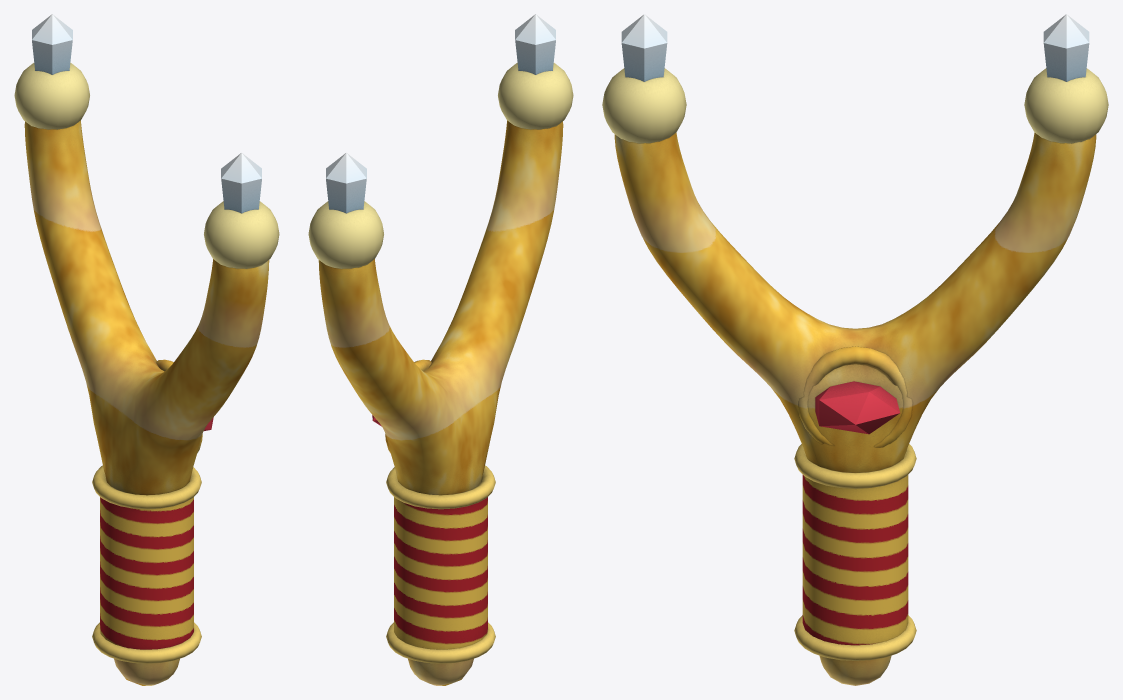
File: Golden Slingshot.fbx
3 views of the same model, side by side, from view 1: azimuth 30°, elevation 25°; view 2: azimuth 150°, elevation 25°; view 3: azimuth 270°, elevation 25° (orthographic). The views are drawn at different scales.
Visible parts, largest first — view 1: Golden Slingshot; view 2: Golden Slingshot; view 3: Golden Slingshot.
Part boxes in pixels (x1=…): Golden Slingshot: x1=14, y1=14, x2=279, y2=685; Golden Slingshot: x1=308, y1=14, x2=573, y2=685; Golden Slingshot: x1=602, y1=14, x2=1108, y2=685.
Size of the model in its own units: 2.86 by 13.97 by 9.6.
1 material, 1 textured.
